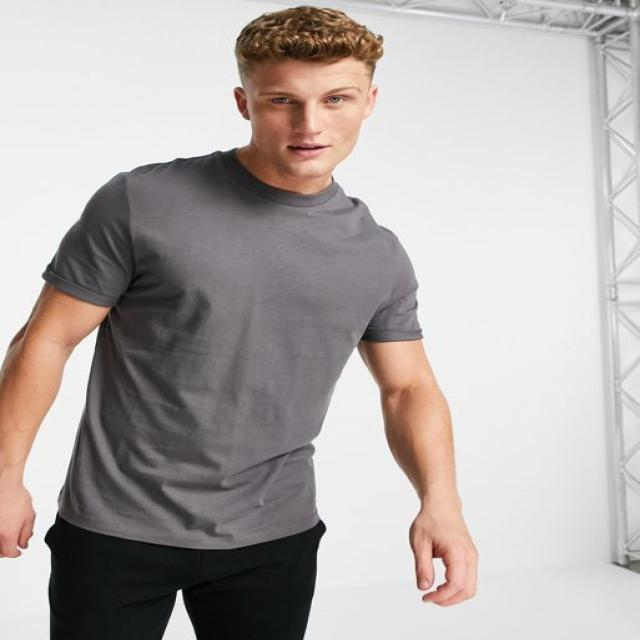tshirt: (40, 148, 424, 548)
